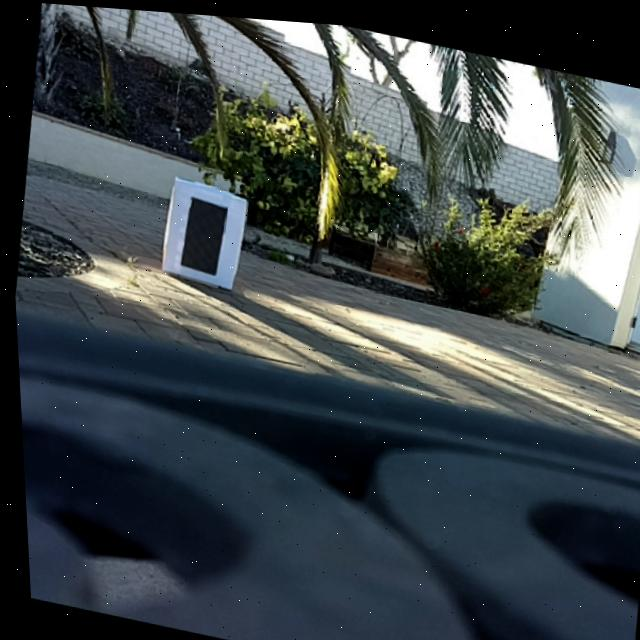led: (176, 193, 229, 275)
